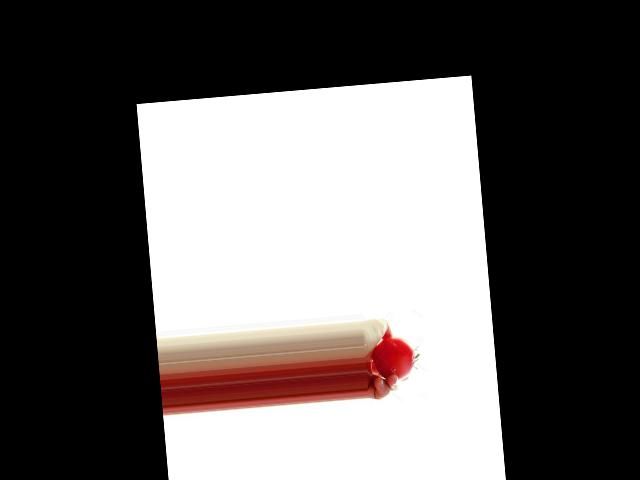tomato: (371, 335, 417, 383)
